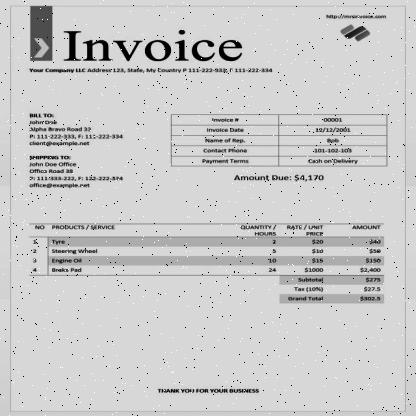Paragraph: (197, 116, 360, 166), (61, 28, 245, 63), (27, 112, 126, 148), (26, 154, 125, 190), (286, 276, 382, 302), (27, 66, 275, 74), (150, 385, 262, 396), (232, 173, 326, 183), (324, 13, 388, 20)
Table: (26, 224, 385, 274)
